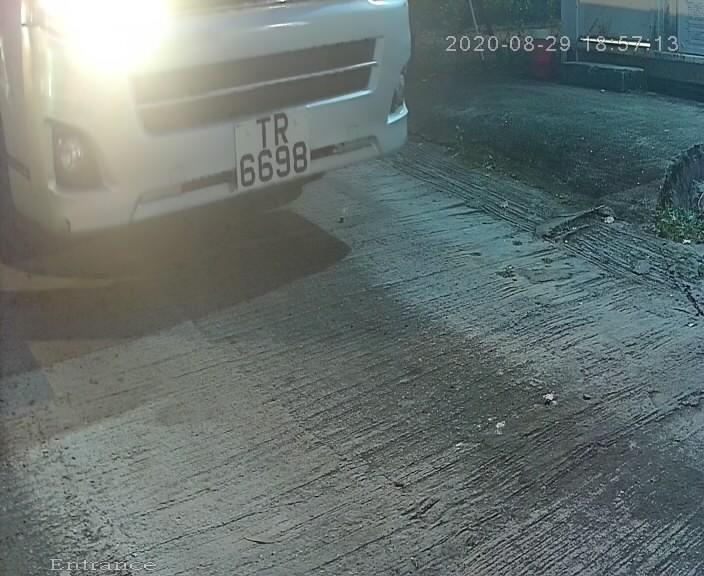License Plate: (224, 96, 321, 204)
